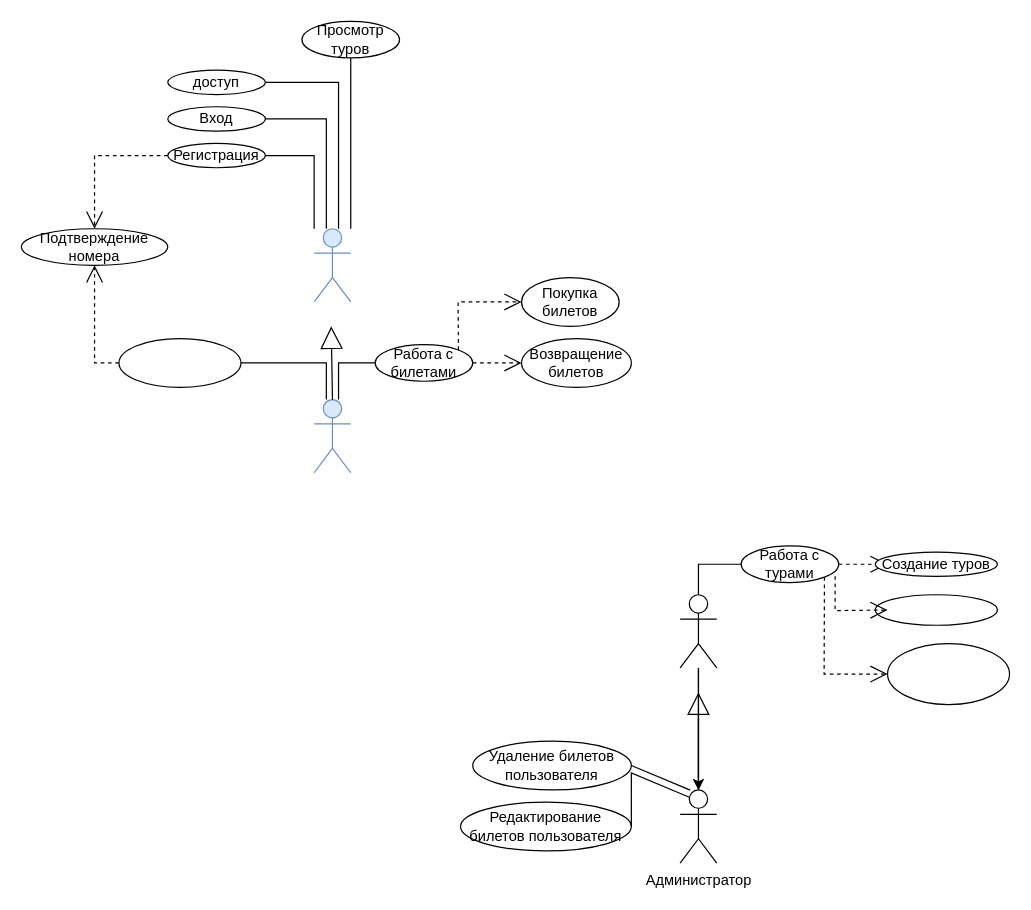
The diagram is 1031 pixels wide and 910 high, and some of its shapes have lost their labels. The shapes that lost their labels are listed below. From the top down, each one's centre as x and y in pixels, then its label:
At [332,265]: "Пользователь".
At [179,362]: "Редактирование профиля".
At [332,435]: "Авторизированный Пользователь".
At [935,609]: "Удаление туров".
At [698,631]: "Работник".
At [948,673]: "Редактирование туров".
